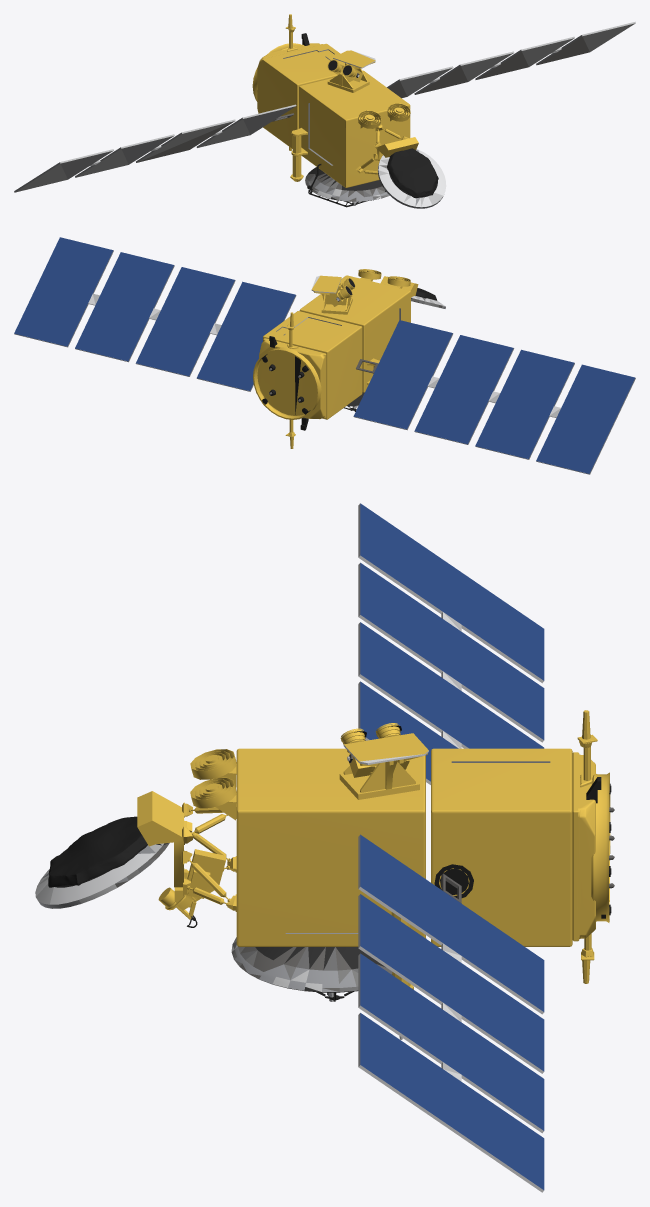
Rendered from jason-3.glb.
3 renders of one model, top to bottom at view 1: azimuth 30°, elevation 25°; view 2: azimuth 150°, elevation 25°; view 3: azimuth 270°, elevation 25°, orthographic. The views are drawn at different scales.
Visible parts, largest first — view 1: foil, body; view 2: solar-panel, foil, body; view 3: foil, solar-panel, body.
Boxes of the visible parts, x1=… form: foil: x1=252, y1=14, x2=418, y2=187; body: x1=14, y1=21, x2=635, y2=208; solar-panel: x1=14, y1=237, x2=634, y2=473; foil: x1=253, y1=269, x2=418, y2=448; body: x1=14, y1=250, x2=635, y2=474; foil: x1=137, y1=710, x2=610, y2=989; solar-panel: x1=360, y1=503, x2=544, y2=1189; body: x1=35, y1=503, x2=614, y2=1192.
Size of the model in its own units: 7.95 by 1.91 by 3.46.
